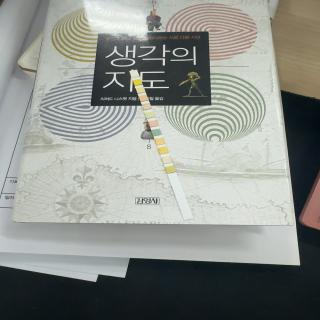mark: (140, 95, 148, 102), (166, 167, 174, 173), (162, 157, 170, 163), (160, 148, 168, 154), (156, 138, 164, 144), (152, 130, 160, 136), (150, 120, 158, 126), (146, 112, 154, 118), (143, 104, 151, 110), (136, 87, 144, 93), (134, 80, 142, 86), (131, 71, 139, 77)
